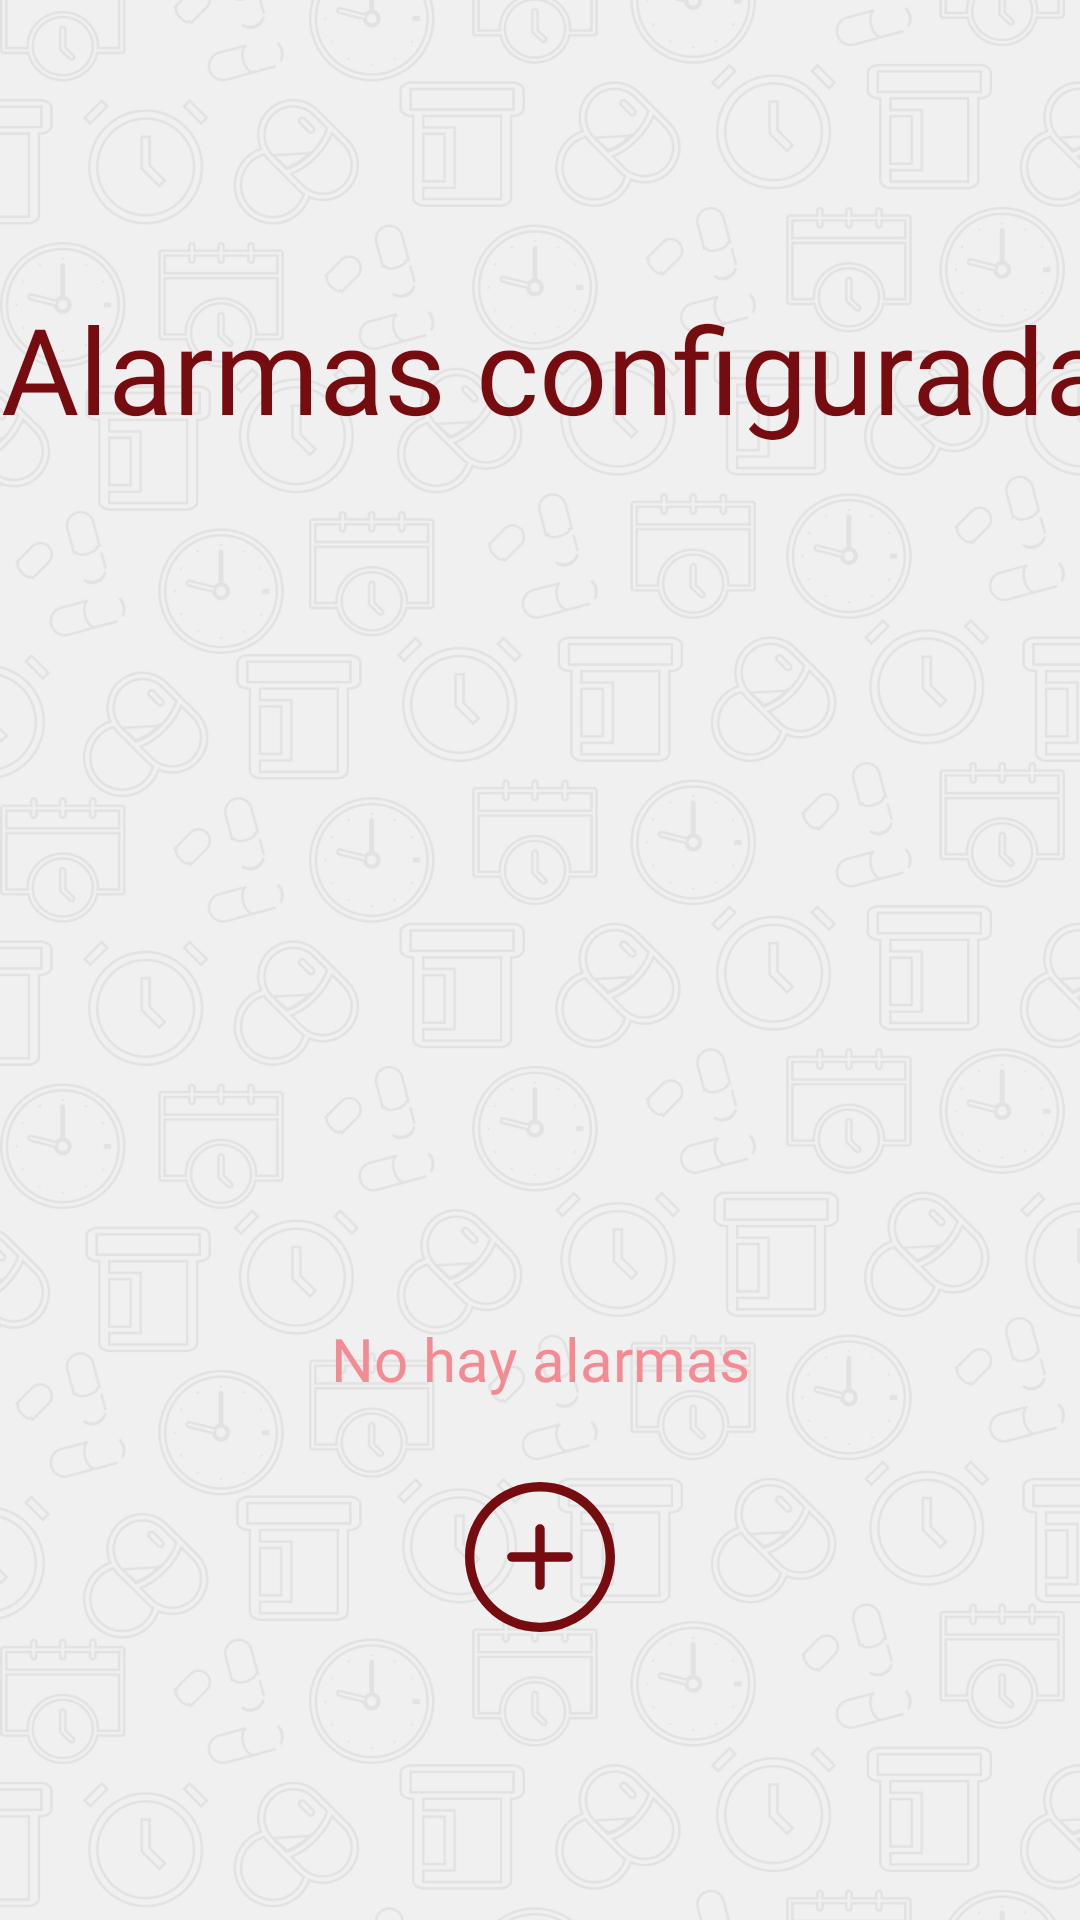

Where to tap for icons on this 1080*1920 app screen, as (x=x, y=y):
Agregar alarma: (x=540, y=1557)
